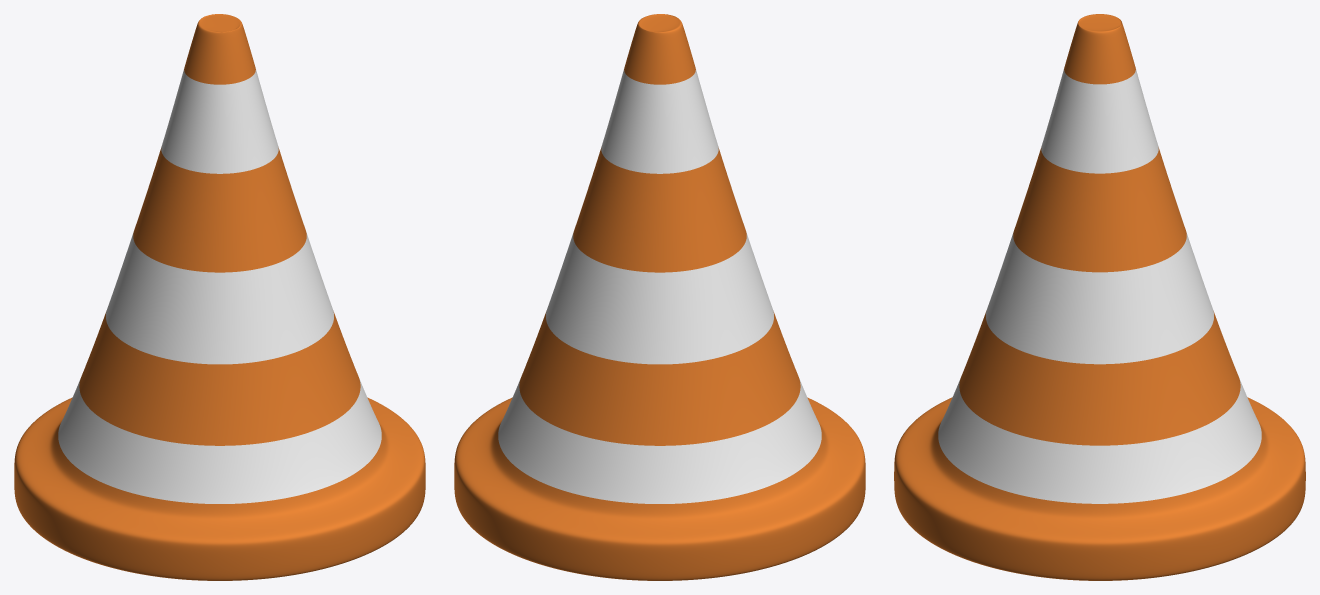
Rendered from conoTransito.fbx.
3 renders of one model, left to right at view 1: azimuth 30°, elevation 25°; view 2: azimuth 150°, elevation 25°; view 3: azimuth 270°, elevation 25°, orthographic.
Parts seen in each view (by area): view 1: Cylinder; view 2: Cylinder; view 3: Cylinder.
Boxes of the visible parts, x1,y1,x2,y2 form: Cylinder: (14, 14, 425, 580); Cylinder: (454, 14, 865, 580); Cylinder: (894, 14, 1305, 580).
Size of the model in its own units: 4.69 by 5.95 by 4.69.
